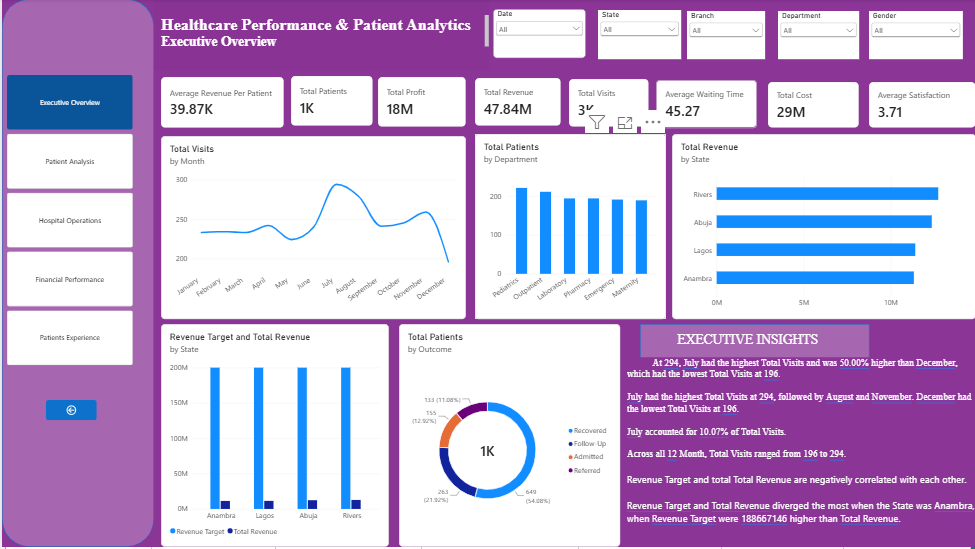

Layout of this report page (visuals, bound fields, positions):
{"tool":"powerbi","page":{"name":"Executive Overview","canvas":[1920,1080],"ordinal":0},"visuals":[{"type":"cardVisual","fields":{"Data":["Date_Table.Total Patients"]},"box":[569.6,151.8,161.6,98.5],"z":0},{"type":"cardVisual","fields":{"Data":["Date_Table.Total Visits"]},"box":[1117.4,157.7,157.7,94.6],"z":1000},{"type":"cardVisual","fields":{"Data":["Date_Table.Total Revenue"]},"box":[932.2,155.7,169.5,94.6],"z":2000},{"type":"cardVisual","fields":{"Data":["Date_Table.Total Cost"]},"box":[1509.6,163.6,179.3,90.7],"z":3000},{"type":"cardVisual","fields":{"Data":["Date_Table.Total Profit"]},"box":[741,153.7,173.4,98.5],"z":4000},{"type":"cardVisual","fields":{"Data":["Date_Table.Average Satisfaction"]},"box":[1708.7,163.6,210.9,90.7],"z":5000},{"type":"cardVisual","fields":{"Data":["Date_Table.Average Waiting Time"]},"box":[1288.9,159.6,199.1,94.6],"z":6000},{"type":"cardVisual","fields":{"Data":["Date_Table.Average Revenue Per Patient"]},"box":[313.4,153.7,242.4,100.5],"z":7000},{"type":"lineChart","fields":{"Category":["Date_Table.Date.Variation.Date Hierarchy.Month"],"Y":["Date_Table.Total Visits"]},"box":[313.4,270,601.1,360.7],"z":8000},{"type":"clusteredBarChart","fields":{"Category":["Patient_Visits.State"],"Y":["Date_Table.Total Revenue"]},"box":[1320.4,266.1,599.1,364.6],"z":9000},{"type":"clusteredColumnChart","fields":{"Category":["Patient_Visits.Department"],"Y":["Date_Table.Total Patients"]},"box":[932.2,266.1,376.4,364.6],"z":10000},{"type":"clusteredColumnChart","fields":{"Category":["Patient_Visits.State"],"Y":["Date_Table.Revenue Target","Date_Table.Total Revenue"]},"box":[313.4,640.5,449.3,439.5],"z":11000},{"type":"donutChart","fields":{"Category":["Patient_Visits.Outcome"],"Y":["Date_Table.Total Patients"]},"box":[782.4,640.5,435.5,439.5],"z":12000},{"type":"slicer","fields":{"Values":["Date_Table.Date"]},"box":[967.7,19.7,183.3,96.6],"z":13000},{"type":"slicer","fields":{"Values":["Patient_Visits.State"]},"box":[1174.6,21.7,163.6,96.6],"z":14000},{"type":"slicer","fields":{"Values":["Patient_Visits.Branch"]},"box":[1350,23.6,153.7,94.6],"z":15000},{"type":"slicer","fields":{"Values":["Patient_Visits.Department"]},"box":[1529.3,23.6,159.6,94.6],"z":16000},{"type":"slicer","fields":{"Values":["Patient_Visits.Gender"]},"box":[1708.7,23.6,185.3,94.6],"z":17000},{"type":"textbox","box":[10,13,290,150],"z":18000},{"type":"shape","box":[0,0,299.4,1079.7],"z":19000},{"type":"shape","box":[299.6,0,660.2,139.9],"z":20000},{"type":"textbox","box":[313.4,31.5,646.4,65],"z":21000},{"type":"actionButton","box":[86,790,100,40],"z":22000},{"type":"pageNavigator","box":[10.7,150.2,248.8,574.9],"z":23000},{"type":"shape","box":[1257.3,640,452.1,66.1],"z":24000},{"type":"textbox","box":[1273.8,656.5,509.9,35.1],"z":25000},{"type":"textbox","box":[1232.5,706.1,687.5,373.7],"z":26000}]}

Visuals, with their boxes in screenshot pixels (x1, y1, x2, y2), scaled from the page's 1920x1080 canvas onto the 975x549 screenshot:
cardVisual - Date_Table.Total Patients: [289, 77, 371, 127]
cardVisual - Date_Table.Total Visits: [567, 80, 648, 128]
cardVisual - Date_Table.Total Revenue: [473, 79, 559, 127]
cardVisual - Date_Table.Total Cost: [767, 83, 858, 129]
cardVisual - Date_Table.Total Profit: [376, 78, 464, 128]
cardVisual - Date_Table.Average Satisfaction: [868, 83, 974, 129]
cardVisual - Date_Table.Average Waiting Time: [655, 81, 756, 129]
cardVisual - Date_Table.Average Revenue Per Patient: [159, 78, 282, 129]
lineChart - Date_Table.Date.Variation.Date Hierarchy.Month x Date_Table.Total Visits: [159, 137, 464, 321]
clusteredBarChart - Patient_Visits.State x Date_Table.Total Revenue: [671, 135, 974, 321]
clusteredColumnChart - Patient_Visits.Department x Date_Table.Total Patients: [473, 135, 665, 321]
clusteredColumnChart - Patient_Visits.State x Date_Table.Revenue Target: [159, 326, 387, 548]
donutChart - Patient_Visits.Outcome x Date_Table.Total Patients: [397, 326, 618, 548]
slicer - Date_Table.Date: [491, 10, 584, 59]
slicer - Patient_Visits.State: [596, 11, 680, 60]
slicer - Patient_Visits.Branch: [686, 12, 764, 60]
slicer - Patient_Visits.Department: [777, 12, 858, 60]
slicer - Patient_Visits.Gender: [868, 12, 962, 60]
textbox: [5, 7, 152, 83]
shape: [0, 0, 152, 548]
shape: [152, 0, 487, 71]
textbox: [159, 16, 487, 49]
actionButton: [44, 402, 94, 422]
pageNavigator: [5, 76, 132, 369]
shape: [638, 325, 868, 359]
textbox: [647, 334, 906, 352]
textbox: [626, 359, 974, 548]
